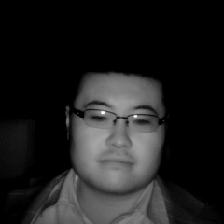normal: (58, 47, 177, 195)
